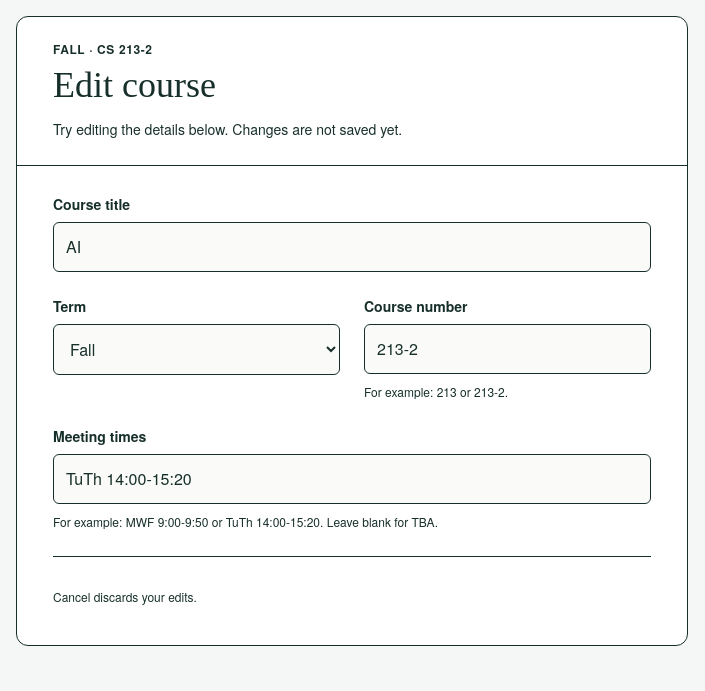
Test: course form validation › shows accessible title feedback during typing and removes it after correction
Replace the text in the field labelled "Course title" with "X" at (352, 247), box [53,222,651,272]
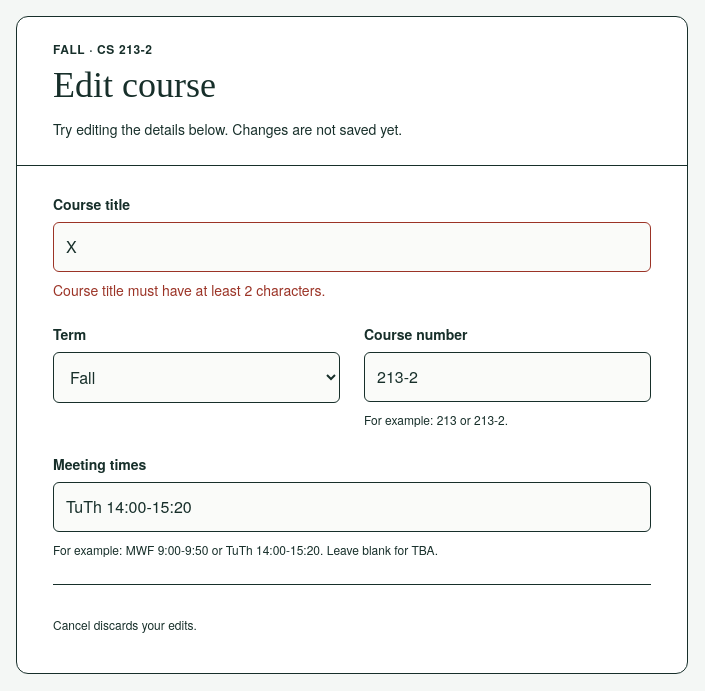
Expected: the text "Course title must have at least 2 characters." is shown, [53,280,325,300]
Replace the text in the field labelled "Course title" with "AI" at (352, 247), box [53,222,651,272]
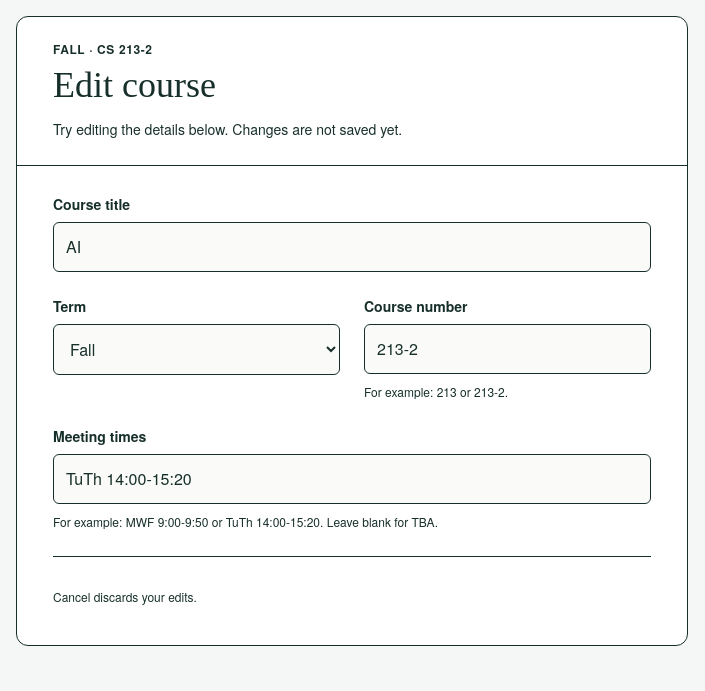
Expected: the message "Course title must have at least 2 characters." is gone
